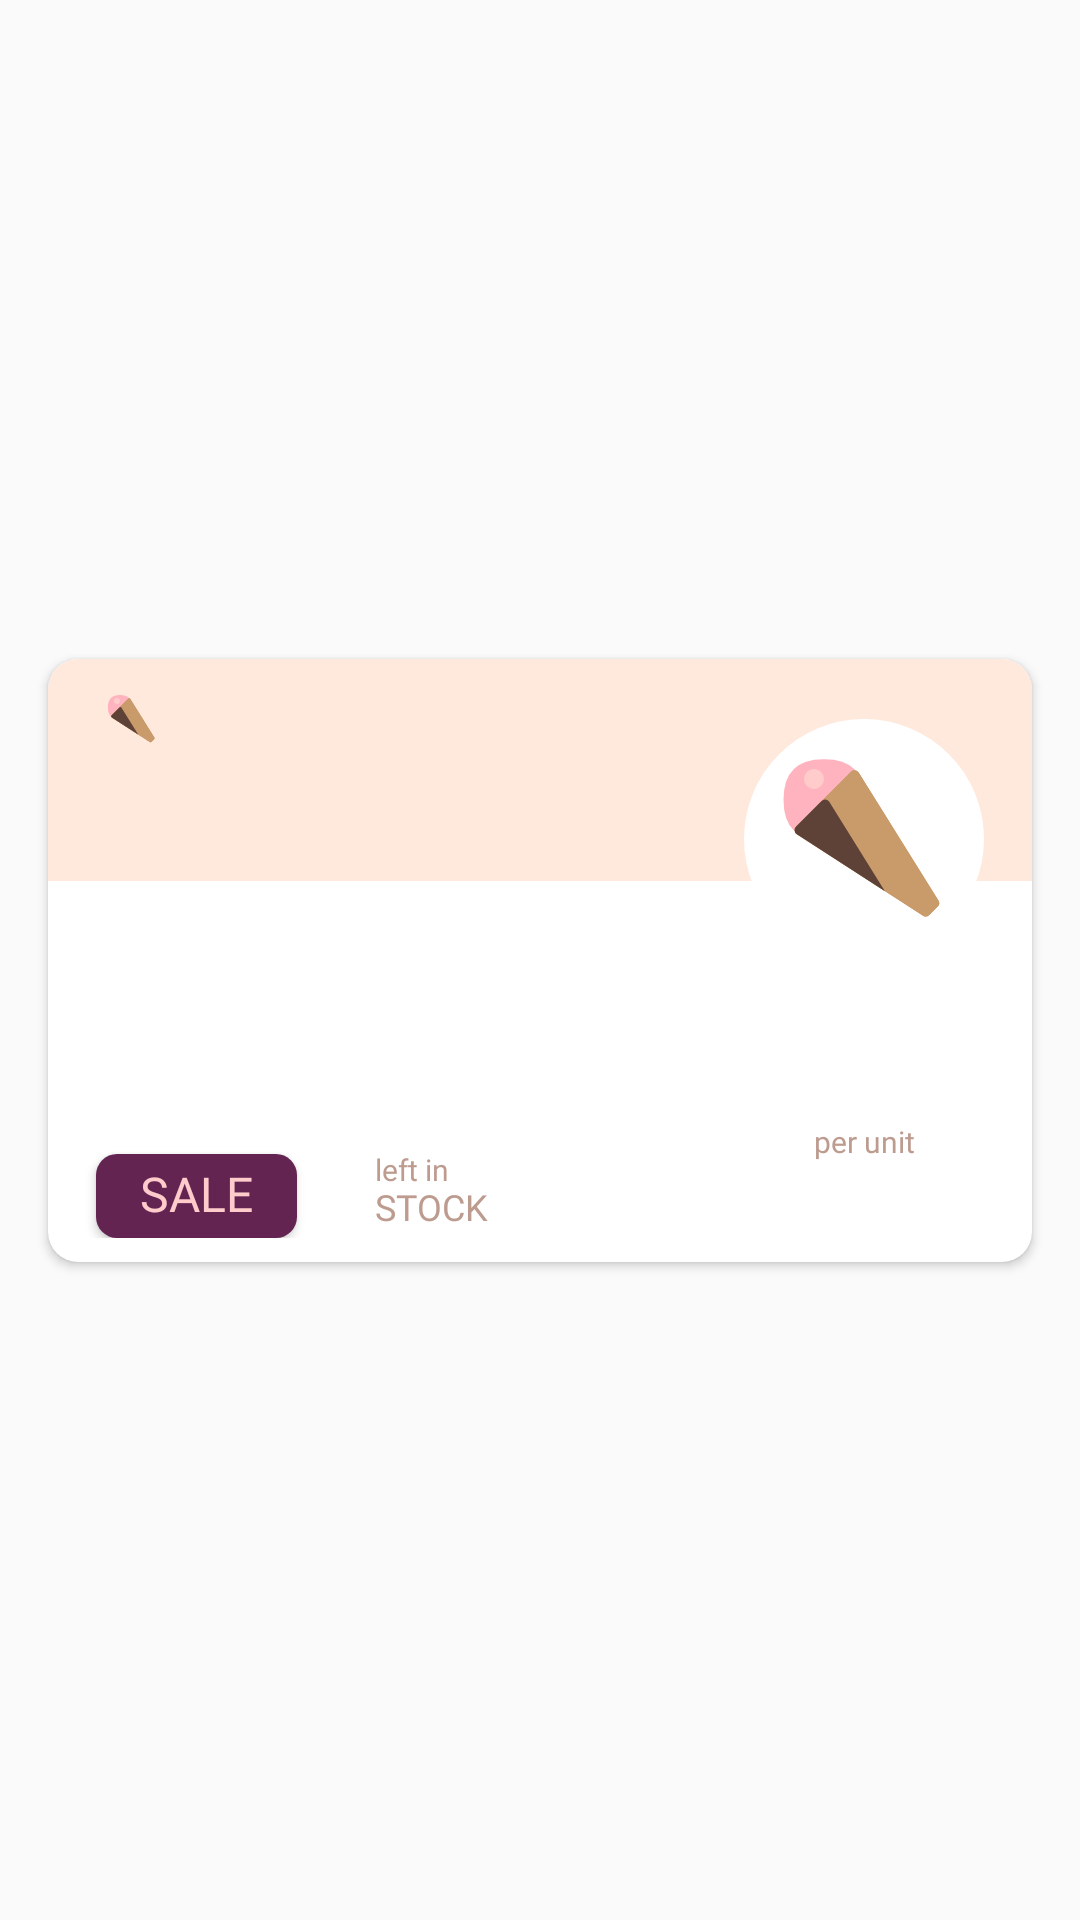

Point at icon controls on the screen. Image size 1080x1920, points as (x,y).
cone: (131,719)
cone circle: (864,839)
